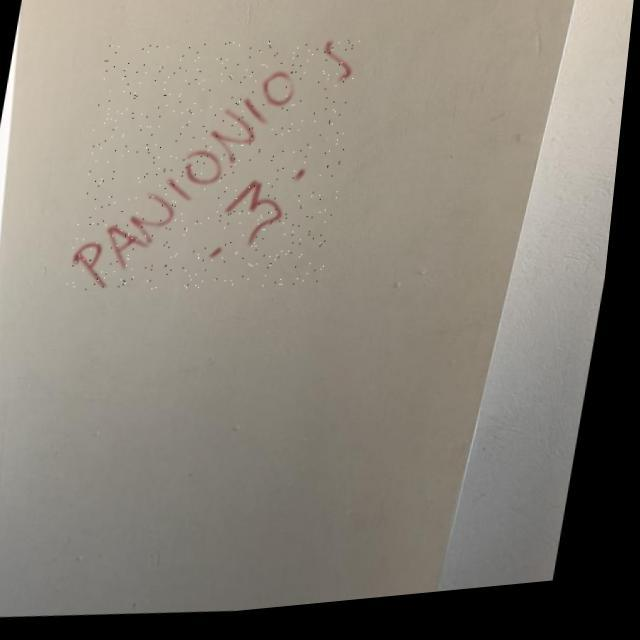-: (70, 27, 367, 311)
